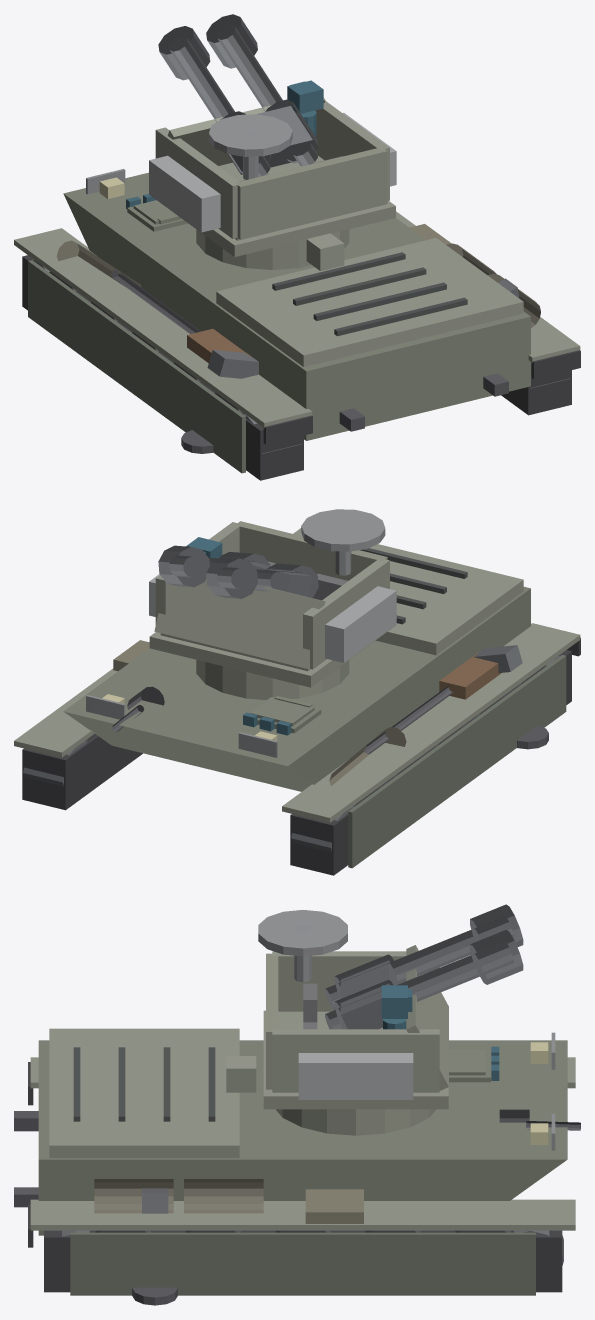
The model's file is soviet_antiair.glb.
The picture shows the model from 3 angles, top to bottom: view 1: azimuth 30°, elevation 25°; view 2: azimuth 150°, elevation 25°; view 3: azimuth 270°, elevation 25°; orthographic projection. The views are drawn at different scales.
Visible parts, largest first — view 1: hull, engine_deck, turret, skirt_l, fender_l, barrel, mount_base, grille, ammo_l, radar, track_l, track_r (+10 smaller); view 2: hull, turret, skirt_l, fender_l, engine_deck, mount_base, barrel, track_r, ammo_l, radar, track_l, fender_r (+14 smaller); view 3: hull, skirt_r, engine_deck, turret, fender_r, barrel, mount_base, ammo_r, radar, track_r, fuel_drum2, grille (+10 smaller).
Part boxes in pixels (x1,y1,x2,y2): hull: (63,172,530,440); engine_deck: (216,238,523,366); turret: (155,97,389,240); skirt_l: (28,260,245,473); fender_l: (14,228,312,427); barrel: (158,14,318,176); mount_base: (150,195,395,270); grille: (272,252,467,336); ammo_l: (149,155,220,232); radar: (208,114,292,179); track_l: (22,255,303,480); track_r: (501,362,571,415); hull: (63,586,530,791); turret: (154,521,389,671); skirt_l: (348,655,566,868); fender_l: (282,623,580,822); engine_deck: (293,528,523,655); mount_base: (149,625,395,699); barrel: (158,545,318,598); track_r: (22,735,142,810); ammo_l: (325,586,396,662); radar: (301,509,385,575); track_l: (290,650,571,875); fender_r: (14,642,149,757); hull: (38,1040,567,1235); skirt_r: (70,1232,535,1295); engine_deck: (49,1028,239,1158); turret: (266,945,448,1092); fender_r: (30,1199,575,1230); barrel: (325,904,523,1029); mount_base: (226,1010,448,1135); ammo_r: (298,1053,413,1099); radar: (258,910,347,982); track_r: (44,1230,562,1292); fuel_drum2: (184,1178,263,1213); grille: (73,1047,215,1121).
Bounding box in the file's own units: 5.16 × 3.62 × 6.43.
